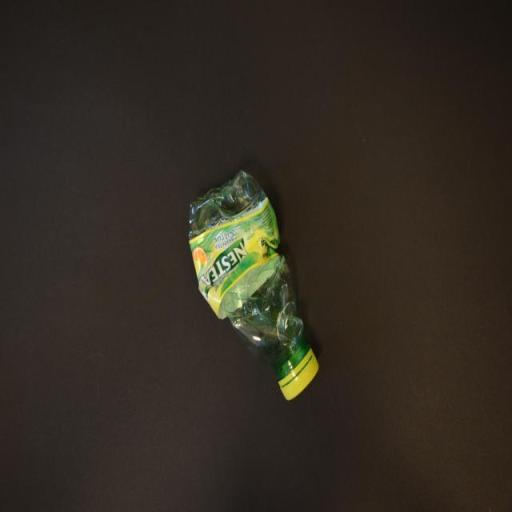plastic: (189, 165, 321, 404)
